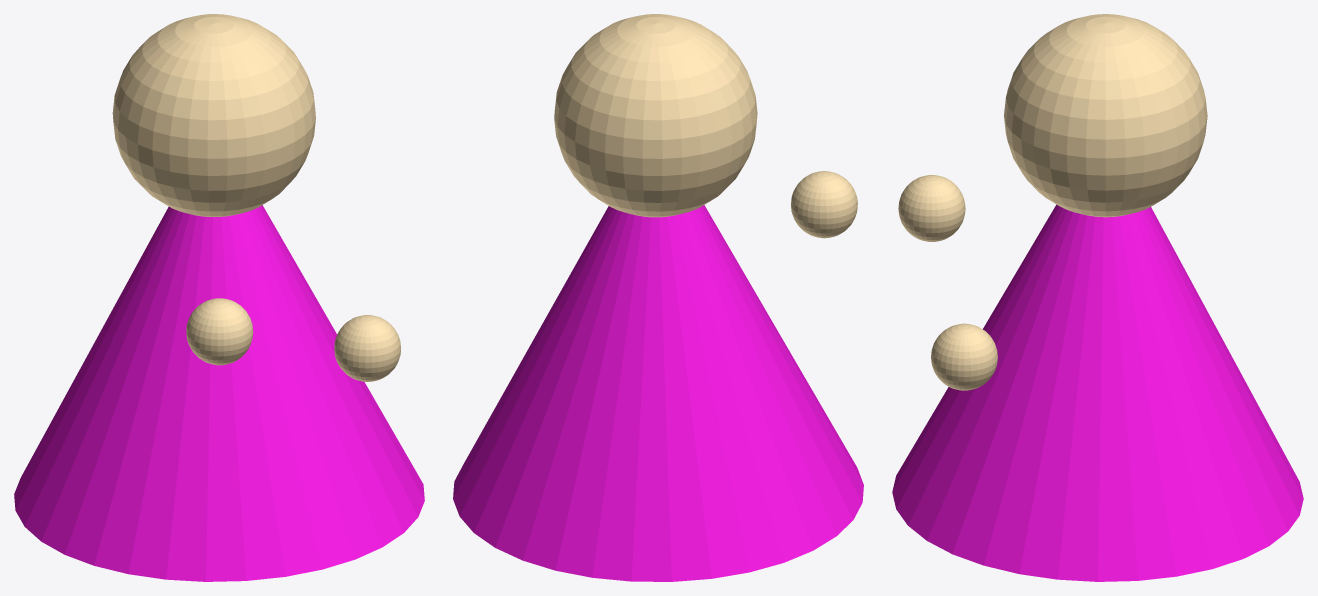
Rendered from Woman_1_2.fbx.
3 renders of one model, left to right at view 1: azimuth 30°, elevation 25°; view 2: azimuth 150°, elevation 25°; view 3: azimuth 270°, elevation 25°, orthographic.
Parts seen in each view (by area): view 1: Woman, Head, Right_Hand, Left_Hand; view 2: Woman, Head, Right_Hand; view 3: Woman, Head, Right_Hand, Left_Hand.
Part boxes in pixels (x1,y1,x2,y2): Woman: (14, 205, 424, 581); Head: (112, 14, 315, 216); Right_Hand: (186, 298, 253, 365); Left_Hand: (334, 315, 400, 381); Woman: (453, 205, 863, 581); Head: (554, 14, 757, 217); Right_Hand: (791, 171, 857, 238); Woman: (892, 204, 1303, 581); Head: (1004, 14, 1207, 217); Right_Hand: (898, 175, 965, 241); Left_Hand: (931, 323, 997, 390).
Bounding box in the file's own units: 200 × 255 × 200.
